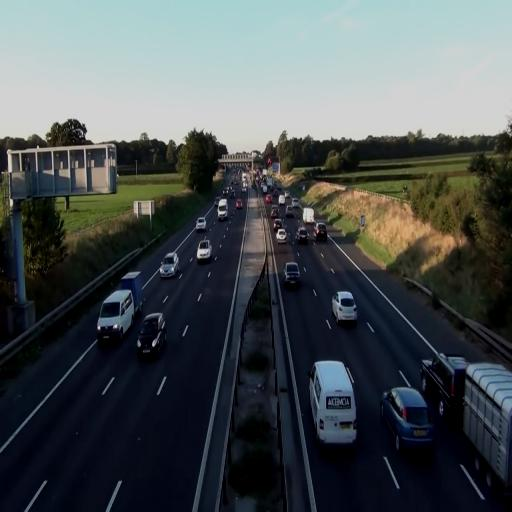vehicle: (461, 364, 512, 497), (308, 359, 358, 450), (380, 385, 435, 456), (420, 352, 468, 422), (97, 289, 134, 345), (136, 313, 166, 360), (332, 290, 358, 324), (160, 252, 180, 280), (282, 262, 301, 288), (197, 237, 213, 262), (296, 226, 308, 245), (217, 199, 228, 219), (276, 226, 288, 244), (195, 217, 208, 232)
